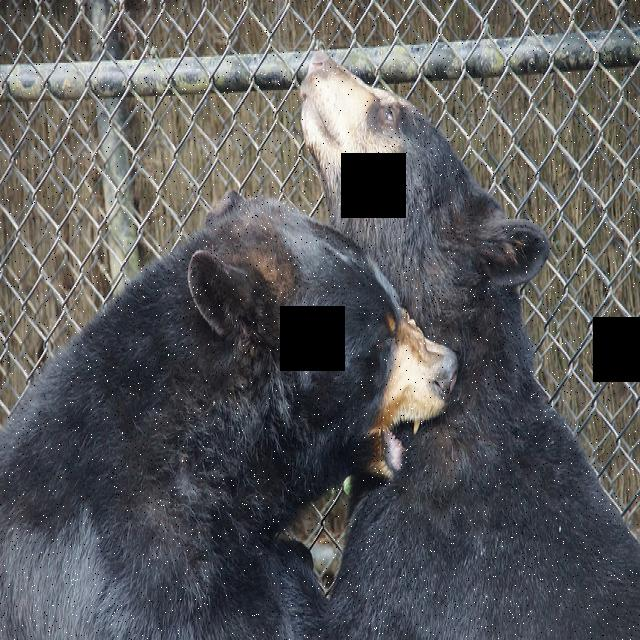Bear: (287, 39, 640, 640), (0, 190, 461, 636)
